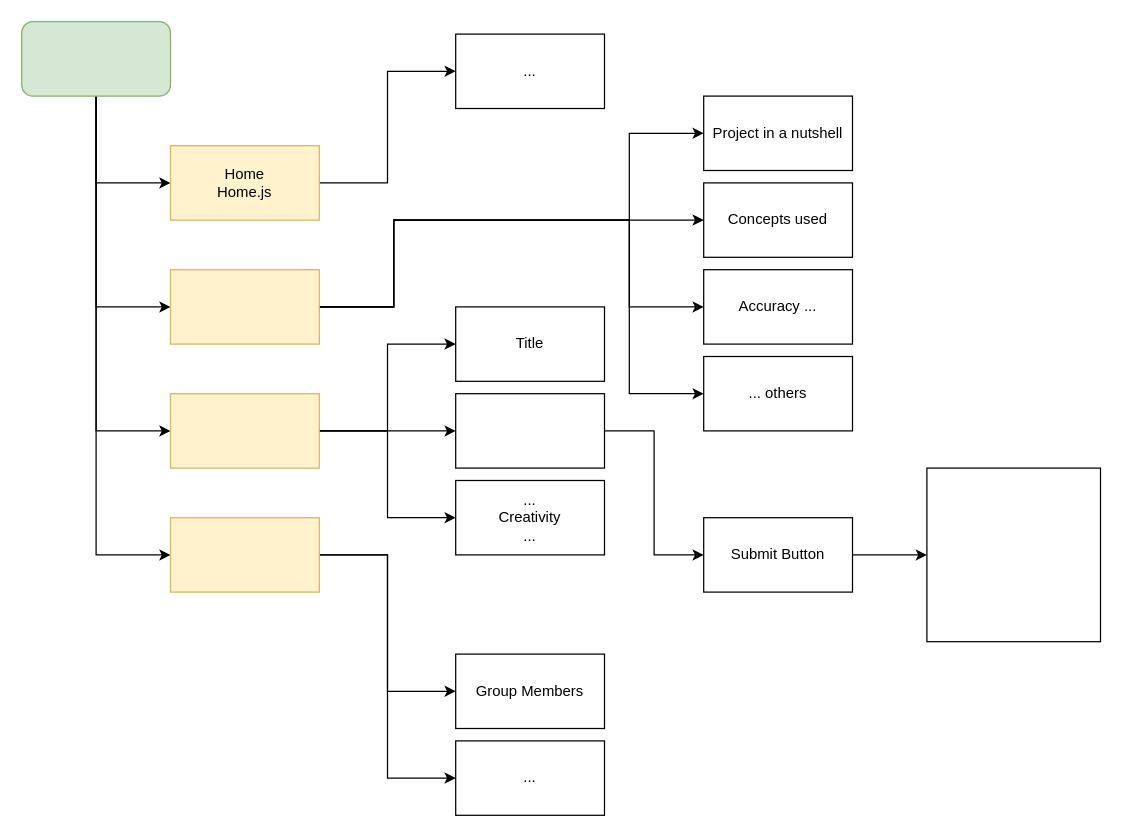
Image size: 1122x837. Some labels were removed from this diagram. Each missing label, with the box of its shape:
About Project AboutProject.js: (169, 268, 319, 344)
About Us AboutUs.js: (169, 516, 319, 592)
Input Field: (454, 392, 604, 468)
Navbar Topics: (20, 20, 170, 96)
onSubmit: Call a function name summarizeRequest(): (926, 467, 1100, 642)
Summarizer Summarizer.js: (169, 392, 319, 468)
